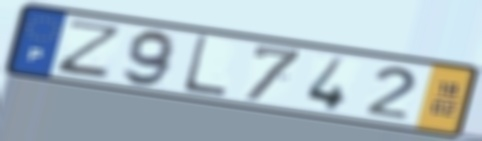2: (363, 65, 421, 122)
4: (303, 54, 352, 114)
7: (241, 43, 304, 103)
9: (123, 28, 178, 88)
L: (179, 33, 229, 100)
Z: (51, 18, 127, 80)
